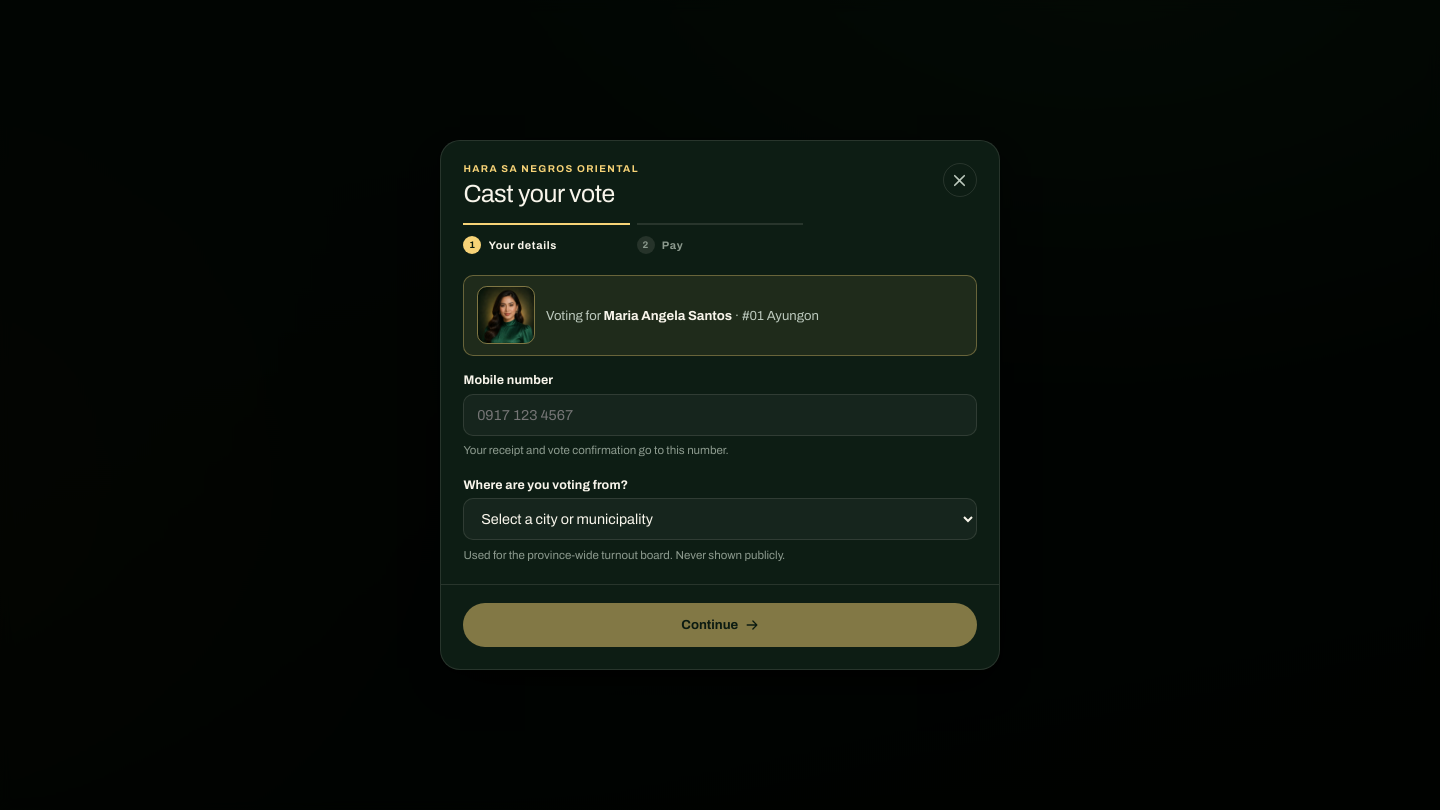
Test case: VoteFlowModal › will not advance past a step whose answers are missing, and says why
Click the button "Continue".
click(720, 625)  # box x1=463 y1=603 x2=977 y2=647
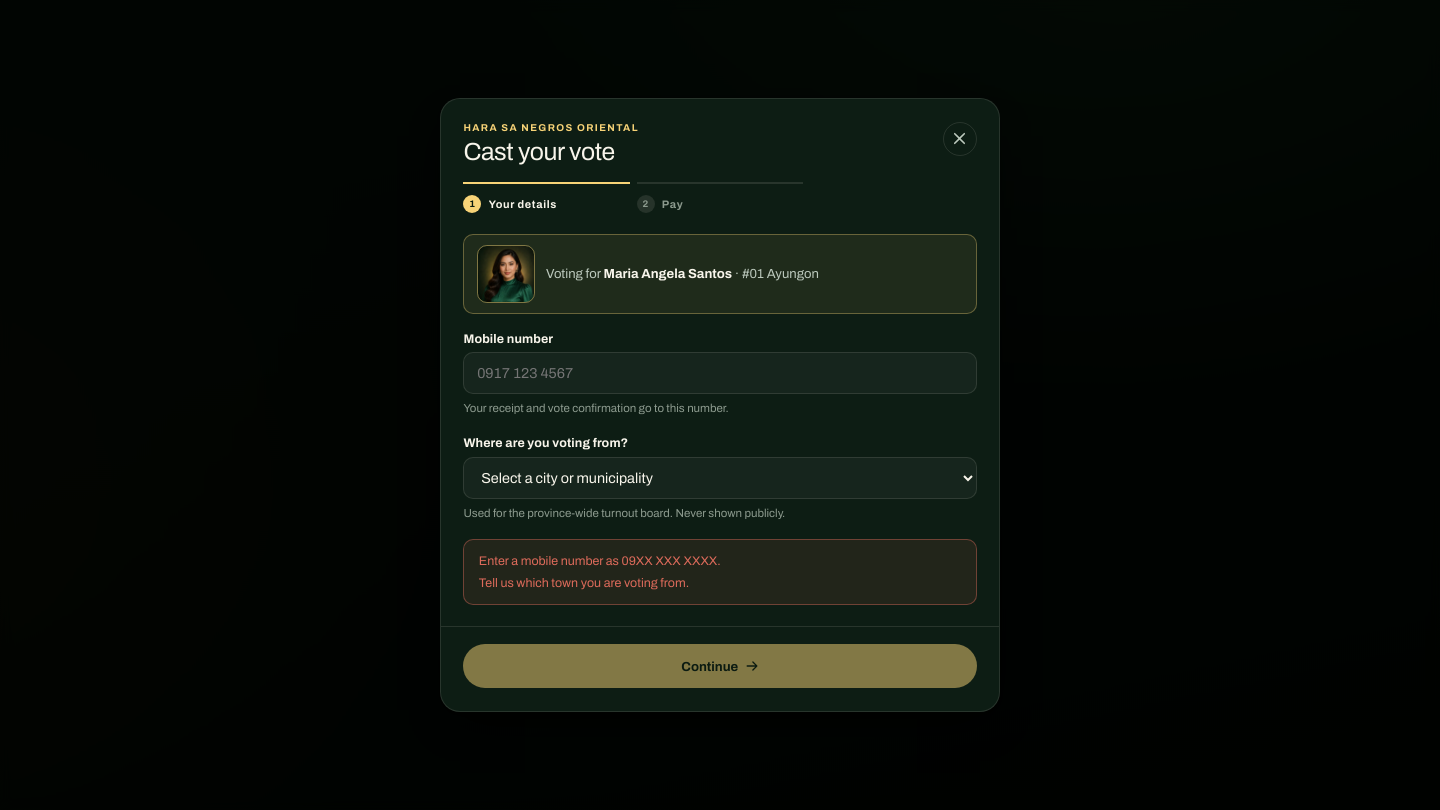
Now the message shows "09XX", box x1=479 y1=554 x2=721 y2=568
Now the message shows "which town", box x1=479 y1=576 x2=689 y2=590
